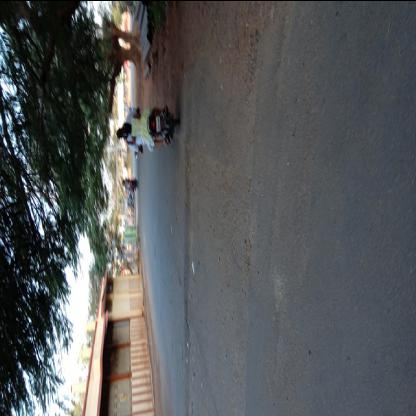speed-bumps: (174, 81, 200, 414)
